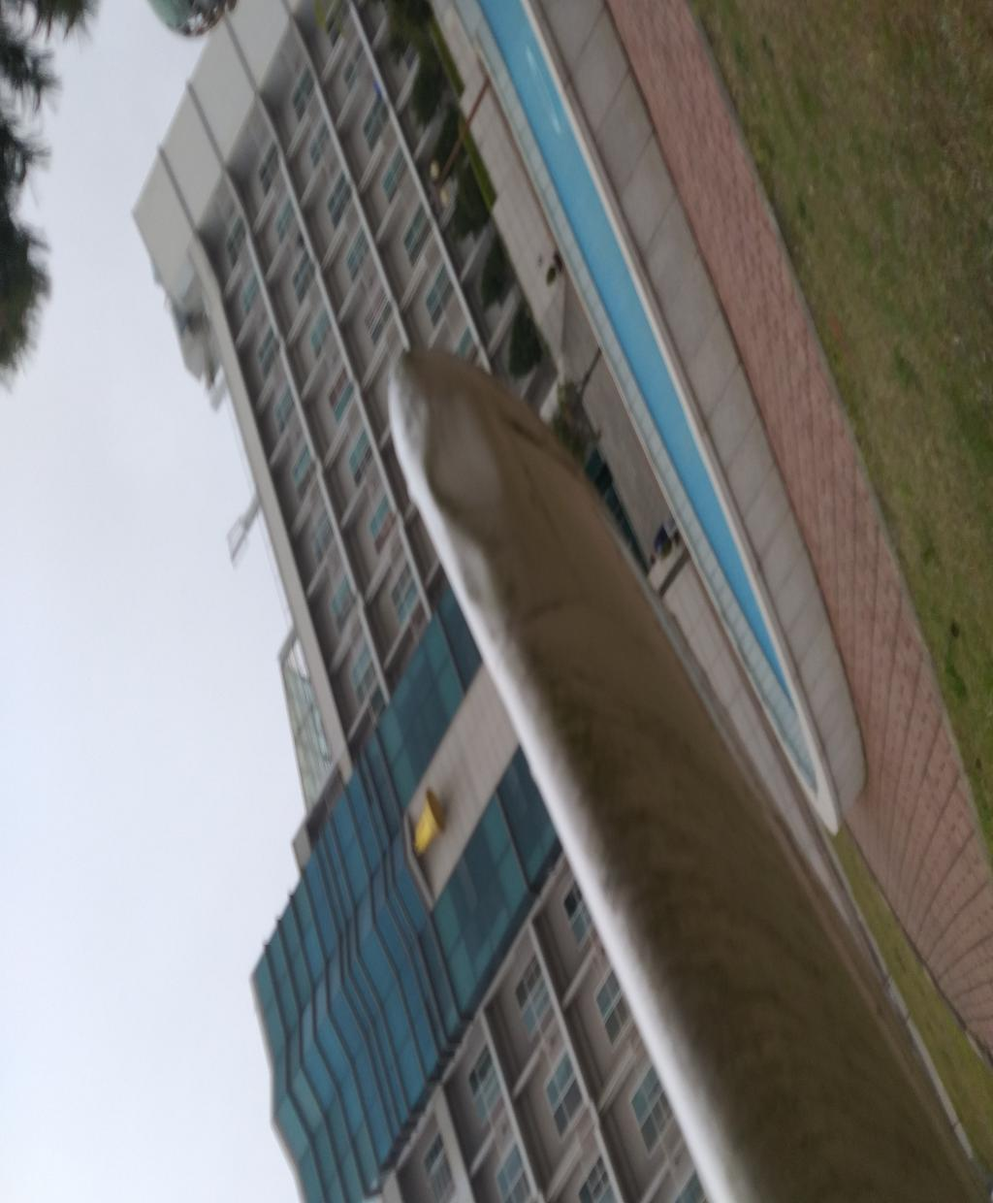dent: (304, 906, 384, 1083), (271, 990, 311, 1061)
